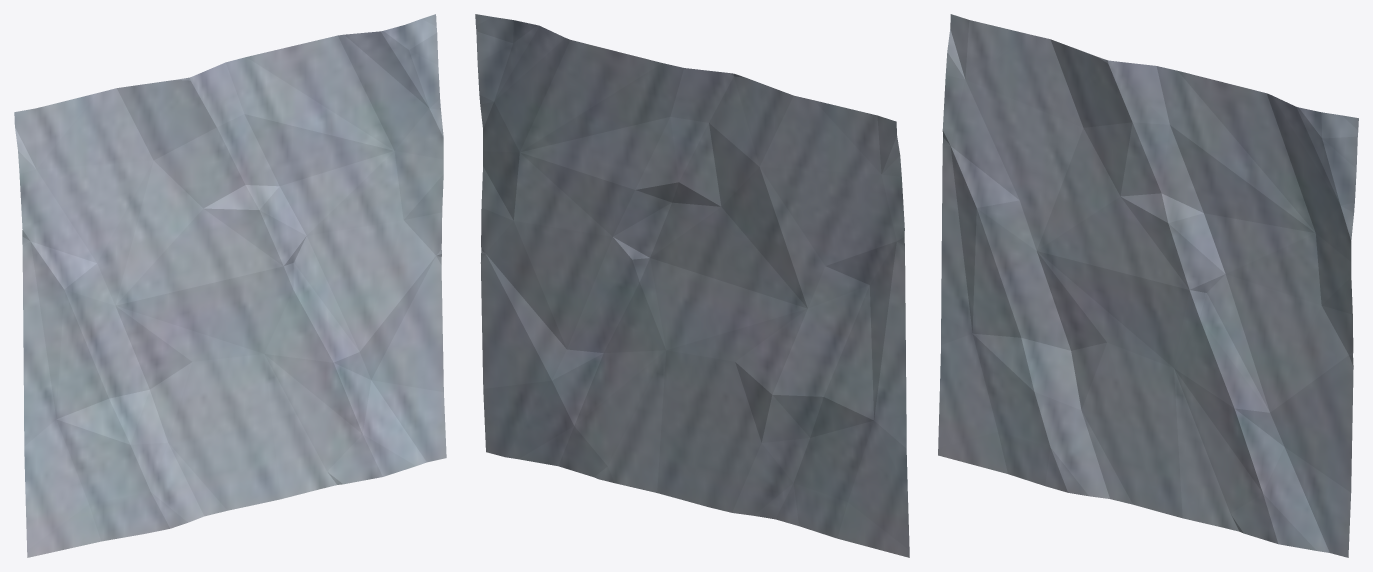
Rendered from Tile_+001_+007_L24_0032012.obj.
3 views of the same model, side by side, from view 1: azimuth 30°, elevation 25°; view 2: azimuth 150°, elevation 25°; view 3: azimuth 330°, elevation 25° (orthographic). The views are drawn at different scales.
Bounding box in the file's own units: 0.9531 × 0.9531 × 0.0748.
Materials: 1 (1 with a texture image).
